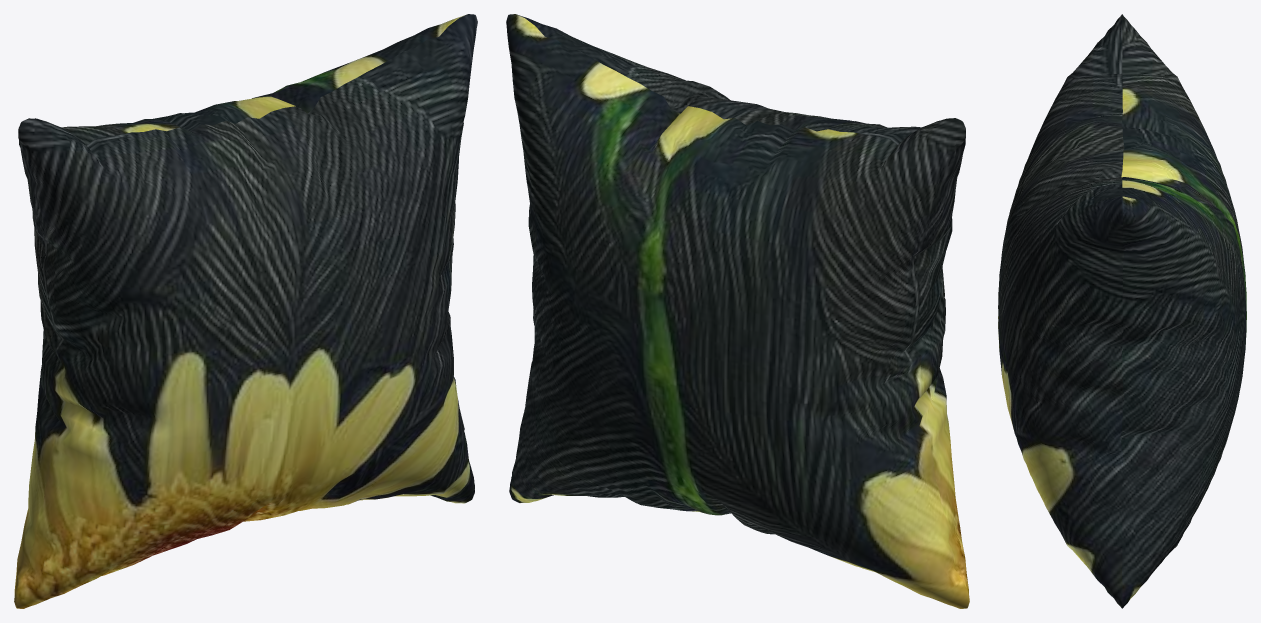
Rendered from pillow.glb.
The picture shows the model from 3 angles, left to right: view 1: azimuth 30°, elevation 25°; view 2: azimuth 150°, elevation 25°; view 3: azimuth 270°, elevation 25°; orthographic projection. The views are drawn at different scales.
Visible parts, largest first — view 1: Pillow; view 2: Pillow; view 3: Pillow.
Part boxes in pixels (x1,y1,x2,y2): Pillow: [14, 14, 477, 608]; Pillow: [506, 14, 969, 608]; Pillow: [998, 14, 1246, 608].
Size of the model in its own units: 62.3 by 63.09 by 34.43.
1 material, 1 textured.
